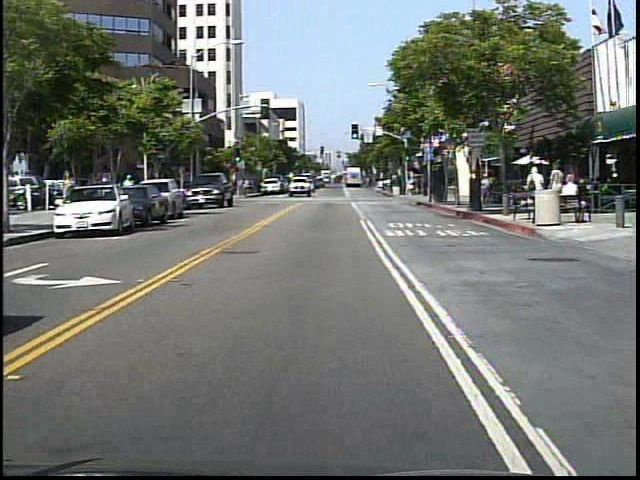person: (59, 166, 79, 219), (238, 175, 252, 201)
